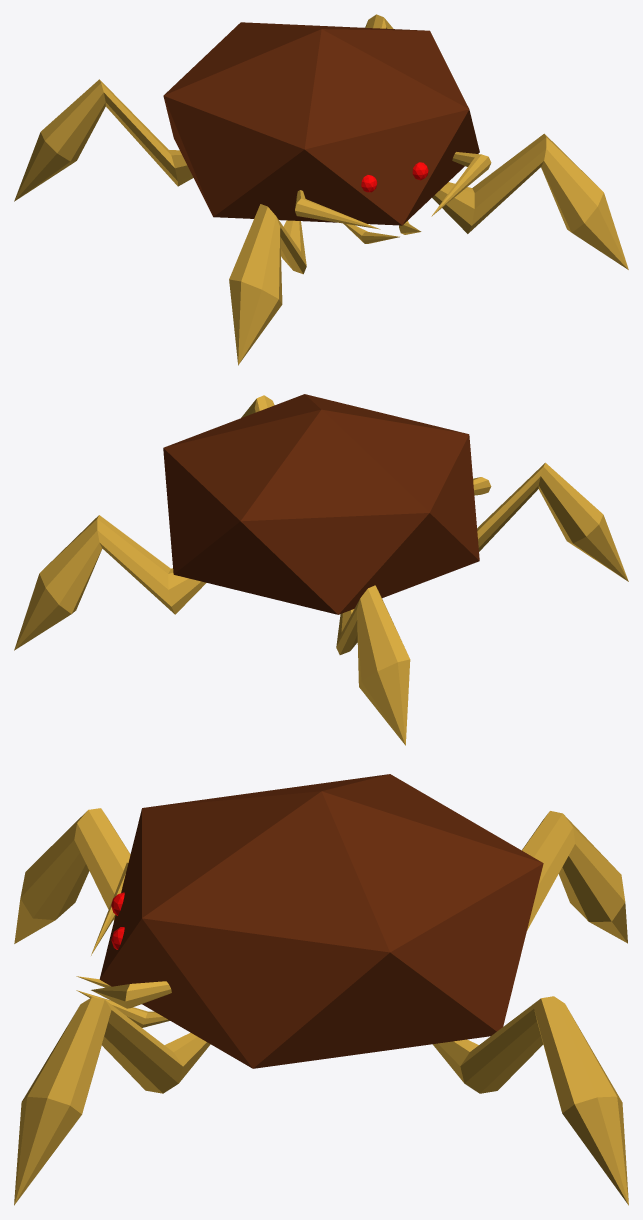
File: enemyDead.fbx
3 renders of one model, top to bottom at view 1: azimuth 30°, elevation 25°; view 2: azimuth 150°, elevation 25°; view 3: azimuth 270°, elevation 25°, orthographic. The views are drawn at different scales.
Visible parts, largest first — view 1: body, legs, legs.001, legs.003, spikes.001, spikes.003; view 2: body, legs.002, legs.003, legs.001; view 3: body, legs, legs.002, legs.001, legs.003, spikes.001, spikes.
Boxes of the visible parts, x1,y1,x2,y2 form: body: (163,22,479,225); legs: (432,133,628,269); legs.001: (229,204,306,365); legs.003: (14,79,193,201); spikes.001: (431,152,491,216); spikes.003: (295,190,380,229); body: (163,394,479,614); legs.002: (14,515,206,650); legs.003: (336,585,410,745); legs.001: (477,462,628,581); body: (99,774,543,1068); legs: (14,997,210,1205); legs.002: (433,996,628,1205); legs.001: (14,808,130,943); legs.003: (522,811,627,943); spikes.001: (91,981,171,1008); spikes: (76,990,169,1027).
Size of the model in its own units: 250 by 126 by 248.
